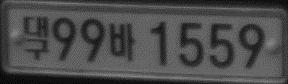1: (149, 21, 174, 65)
5: (208, 23, 235, 67), (179, 22, 203, 67)
9: (238, 22, 265, 67), (80, 17, 105, 62), (52, 16, 76, 60)
대구_V: (22, 15, 50, 60)
바: (110, 23, 135, 60)
